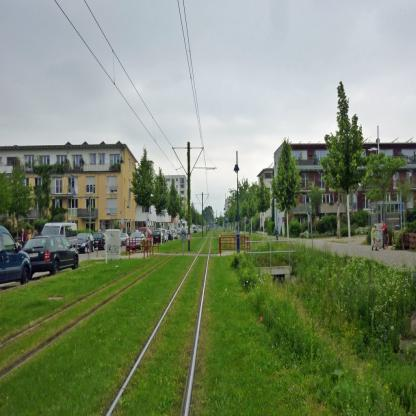Car: (23, 234, 79, 281), (1, 226, 33, 286), (154, 226, 202, 244), (79, 232, 95, 256), (128, 231, 148, 250), (95, 233, 106, 251), (153, 231, 167, 244), (124, 234, 130, 247), (121, 236, 123, 248)
